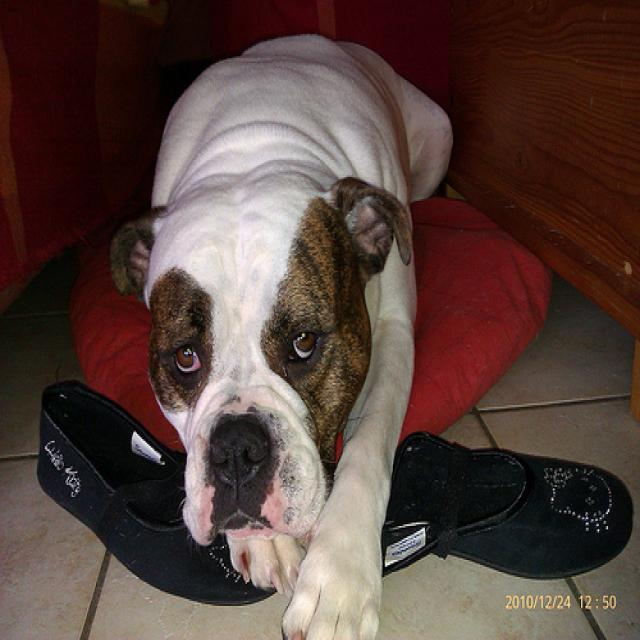dog-american_bulldog: (102, 24, 460, 637)
